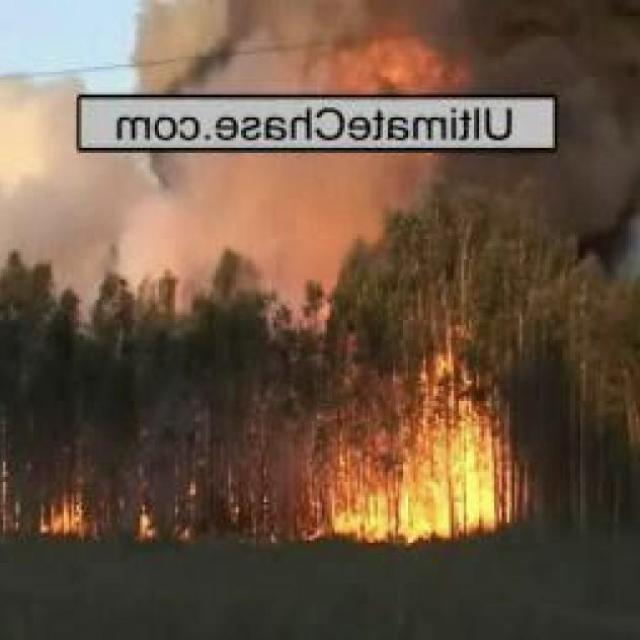Fire: (321, 352, 523, 544), (139, 476, 206, 542), (35, 495, 98, 539)
